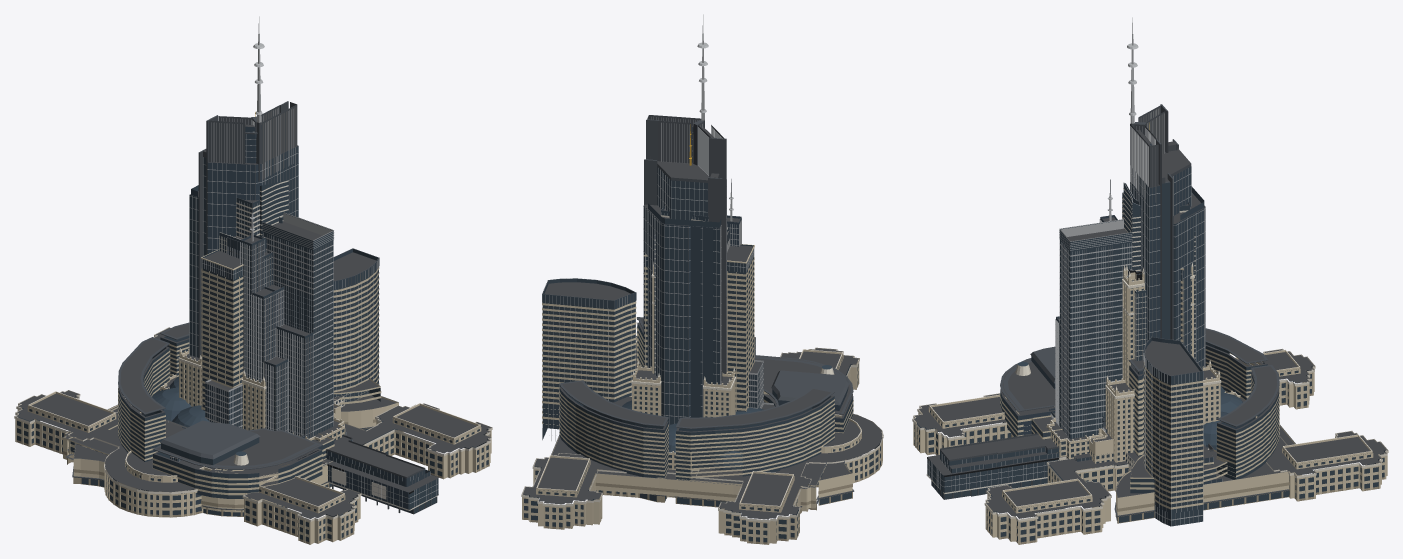
File: warsaw.glb
3 renders of one model, left to right at view 1: azimuth 30°, elevation 25°; view 2: azimuth 150°, elevation 25°; view 3: azimuth 270°, elevation 25°, orthographic. The views are drawn at different scales.
Parts seen in each view (by area): view 1: hero__237574573, hero__89352683, hero__234881014, hero__875519280, hero__235880567, hero__350962669, hero__961565573, hero__239175870; view 2: hero__237574573, hero__875519280, hero__89352683, hero__235880567, hero__961565573, hero__234881014, hero__239175870; view 3: hero__237574573, hero__89352683, hero__234881014, hero__875519280, hero__350962669, hero__239175870, hero__235880567, hero__140367961, hero__977055393.
Part boxes in pixels (x1=…): hero__237574573: x1=62, y1=248, x2=398, y2=516; hero__89352683: x1=14, y1=112, x2=492, y2=544; hero__234881014: x1=240, y1=194, x2=346, y2=461; hero__875519280: x1=189, y1=16, x2=298, y2=358; hero__235880567: x1=201, y1=249, x2=243, y2=410; hero__350962669: x1=323, y1=435, x2=438, y2=514; hero__961565573: x1=165, y1=234, x2=266, y2=461; hero__239175870: x1=236, y1=180, x2=288, y2=238; hero__237574573: x1=542, y1=278, x2=854, y2=513; hero__875519280: x1=643, y1=14, x2=726, y2=424; hero__89352683: x1=521, y1=124, x2=883, y2=544; hero__235880567: x1=643, y1=244, x2=754, y2=411; hero__961565573: x1=727, y1=229, x2=774, y2=409; hero__234881014: x1=611, y1=179, x2=741, y2=406; hero__239175870: x1=654, y1=206, x2=708, y2=374; hero__237574573: x1=1000, y1=328, x2=1301, y2=526; hero__89352683: x1=912, y1=122, x2=1388, y2=544; hero__234881014: x1=1049, y1=179, x2=1222, y2=483; hero__875519280: x1=1127, y1=17, x2=1205, y2=369; hero__350962669: x1=926, y1=433, x2=1068, y2=499; hero__239175870: x1=1122, y1=182, x2=1195, y2=359; hero__235880567: x1=1134, y1=267, x2=1183, y2=361; hero__140367961: x1=1125, y1=356, x2=1143, y2=456; hero__977055393: x1=1085, y1=428, x2=1117, y2=468.
Size of the model in its own units: 256 by 310 by 301.
